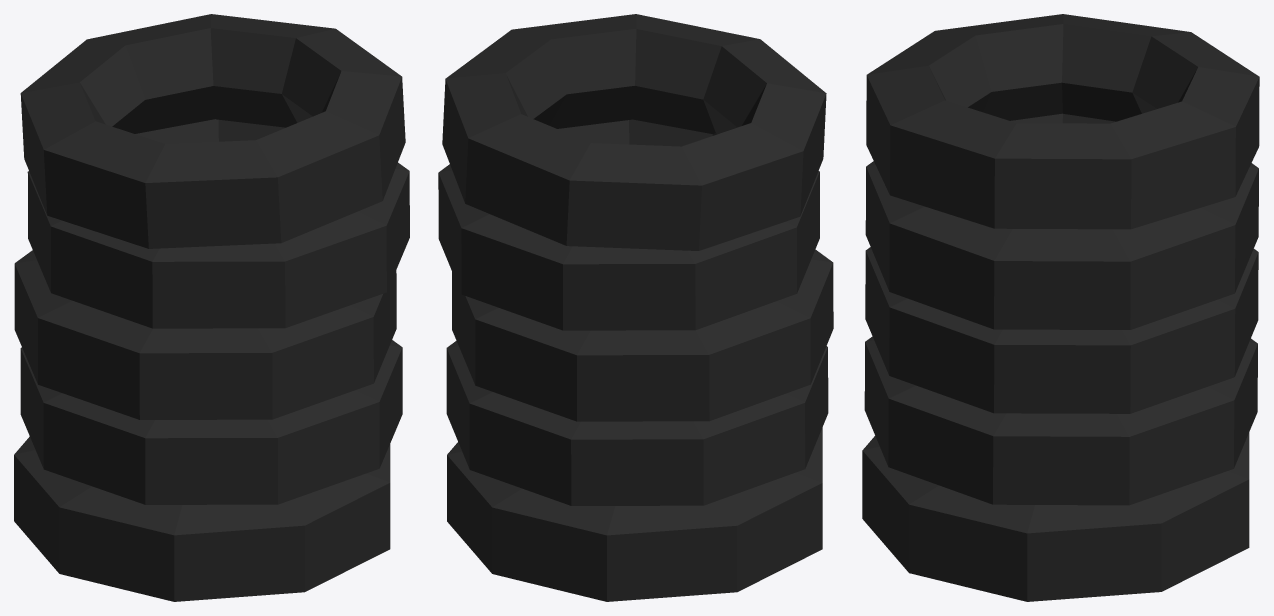
File: tires.glb
3 views of the same model, side by side, from view 1: azimuth 30°, elevation 25°; view 2: azimuth 150°, elevation 25°; view 3: azimuth 270°, elevation 25° (orthographic). The views are drawn at different scales.
Parts seen in each view (by area): view 1: tires; view 2: tires; view 3: tires.
Part boxes in pixels (x1,y1,x2,y2): tires: [14, 14, 409, 601]; tires: [438, 14, 833, 601]; tires: [862, 14, 1259, 601].
Size of the model in its own units: 0.8135 by 1.04 by 0.802.
Materials: 1 (1 with a texture image).
